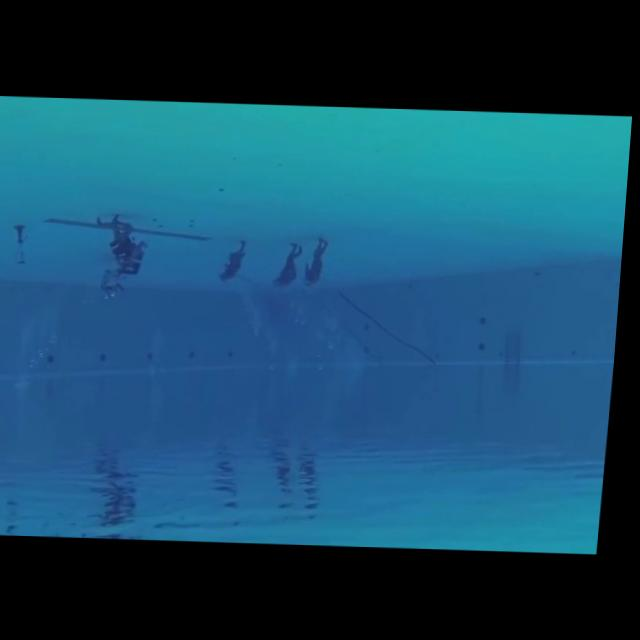human: (91, 206, 158, 284), (269, 236, 310, 294), (301, 231, 338, 293), (215, 235, 256, 287)
